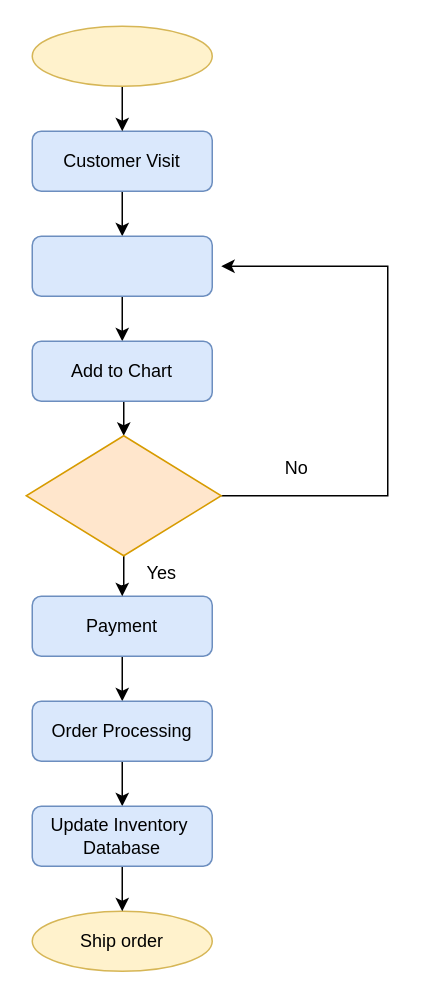
This 426x998 diagram has some shape labels left out. The box of each missing label's shape, as (x1, y1, x2, y2) in pixels:
Browse Products: (31, 235, 212, 296)
Proceed to Checkout?: (25, 434, 221, 556)
Start: (31, 25, 212, 86)
